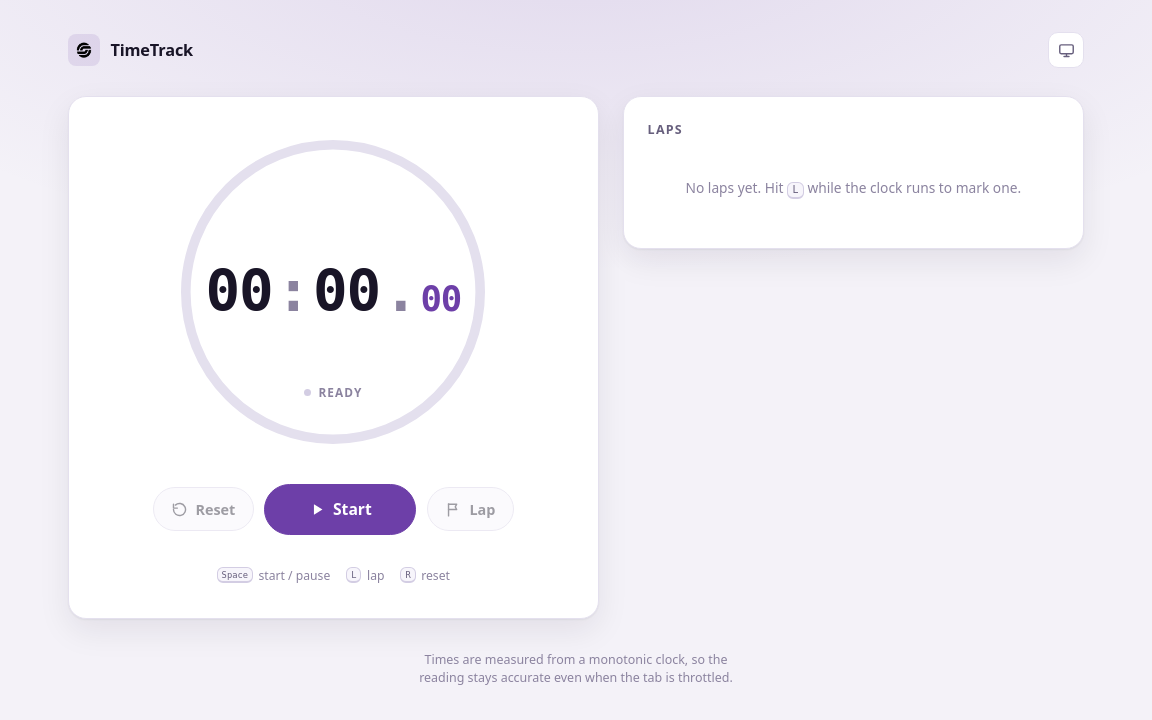
Test: TimeTrack › clears the clock and the laps on reset
Click the button "Start": (340, 509) [264,484,416,535]
Wait 1500 ms
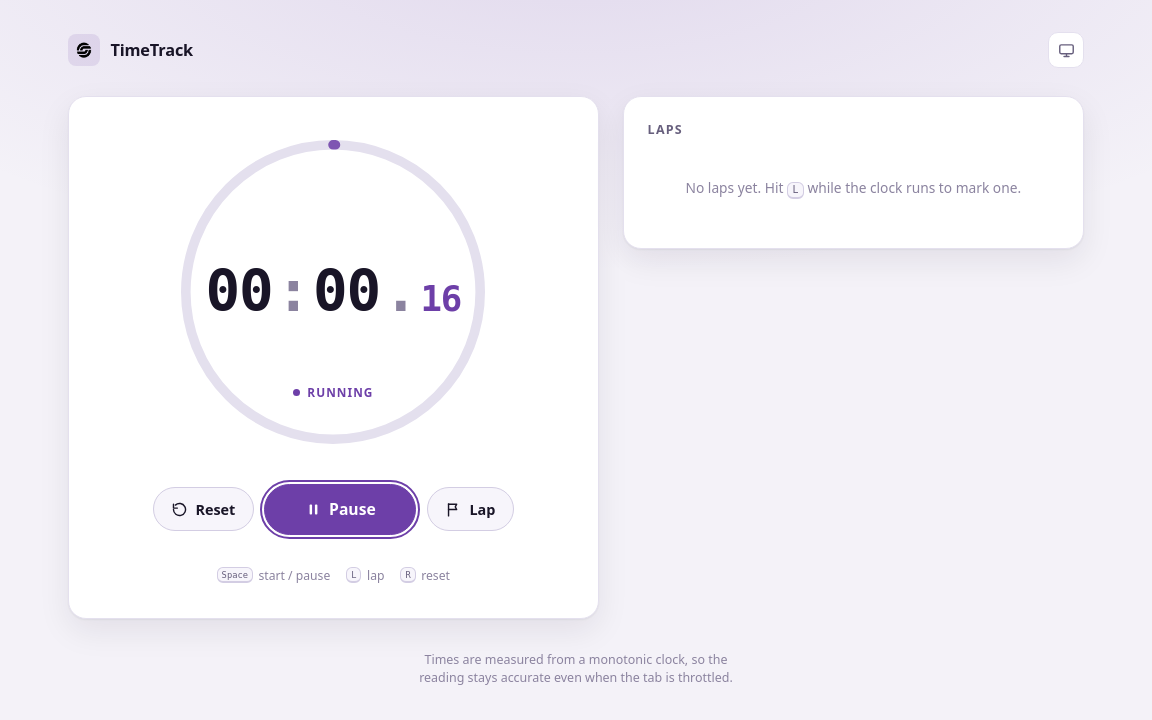
Click the button "Lap": (470, 509) [427,488,514,531]
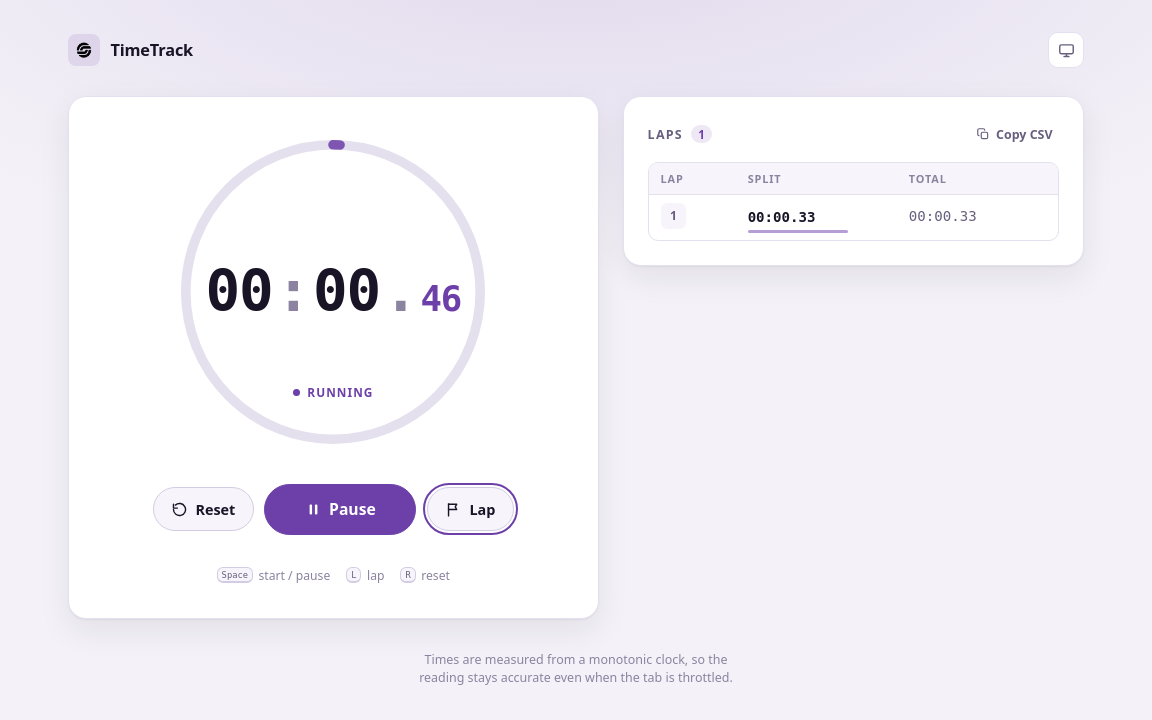
Click the button "Reset": (203, 509) [153,488,254,531]
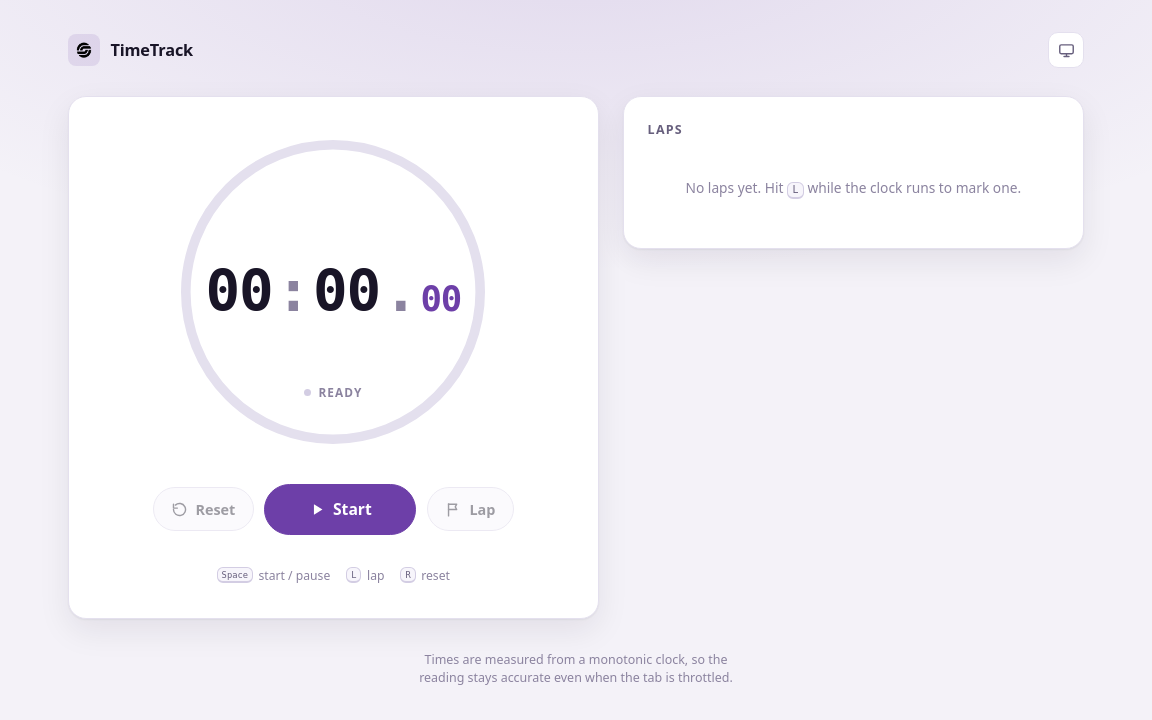
Now the table is gone
Now the text "No laps yet. Hit L while the clock runs to mark one." is shown, box [686,178,1021,199]
